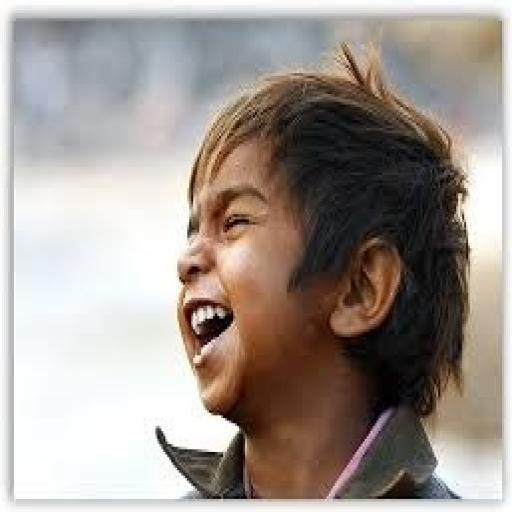laughing: (146, 36, 478, 494)
